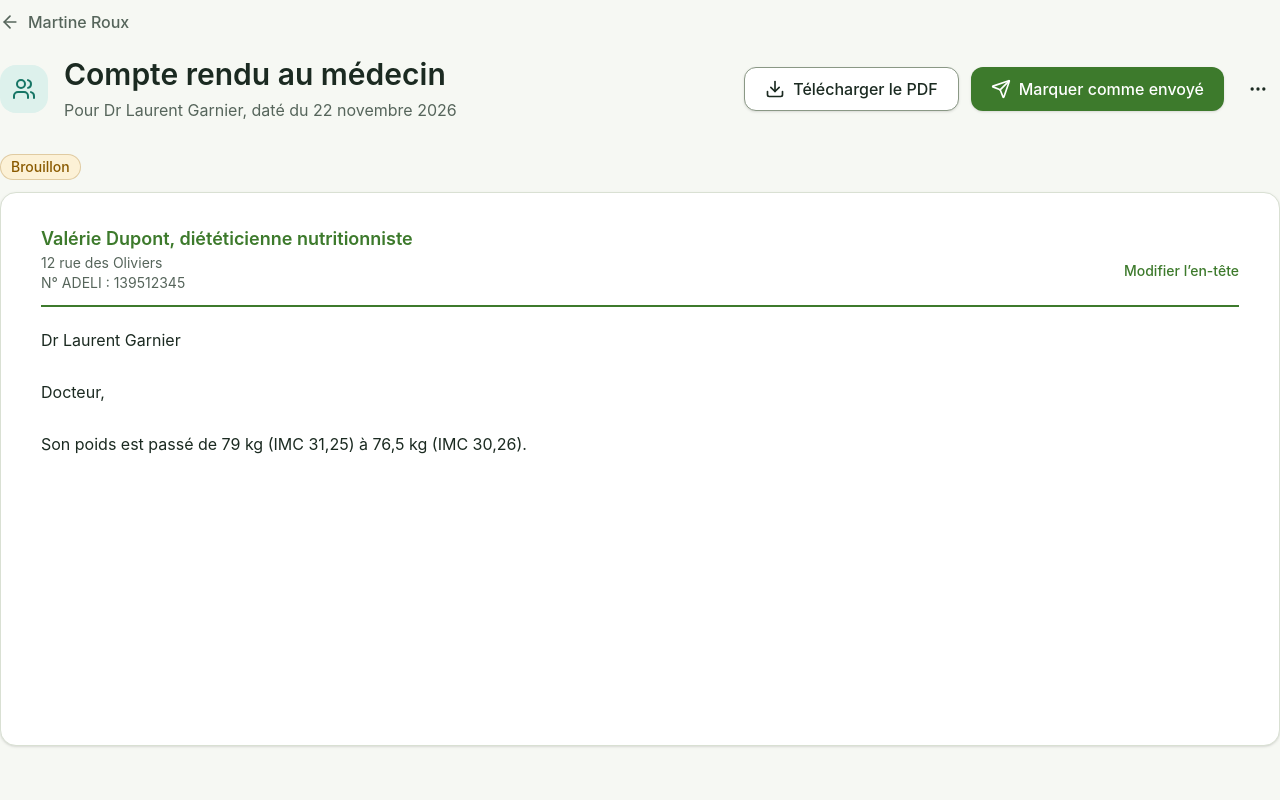
Test case: GpReportPage › regenerates a draft only after a warning that the text is replaced
Expected: the text box named "Texte du compte rendu" is shown, [41,326,1239,712]
Click the button named "Plus d’actions" at (1258,89), box [1236,67,1279,111]
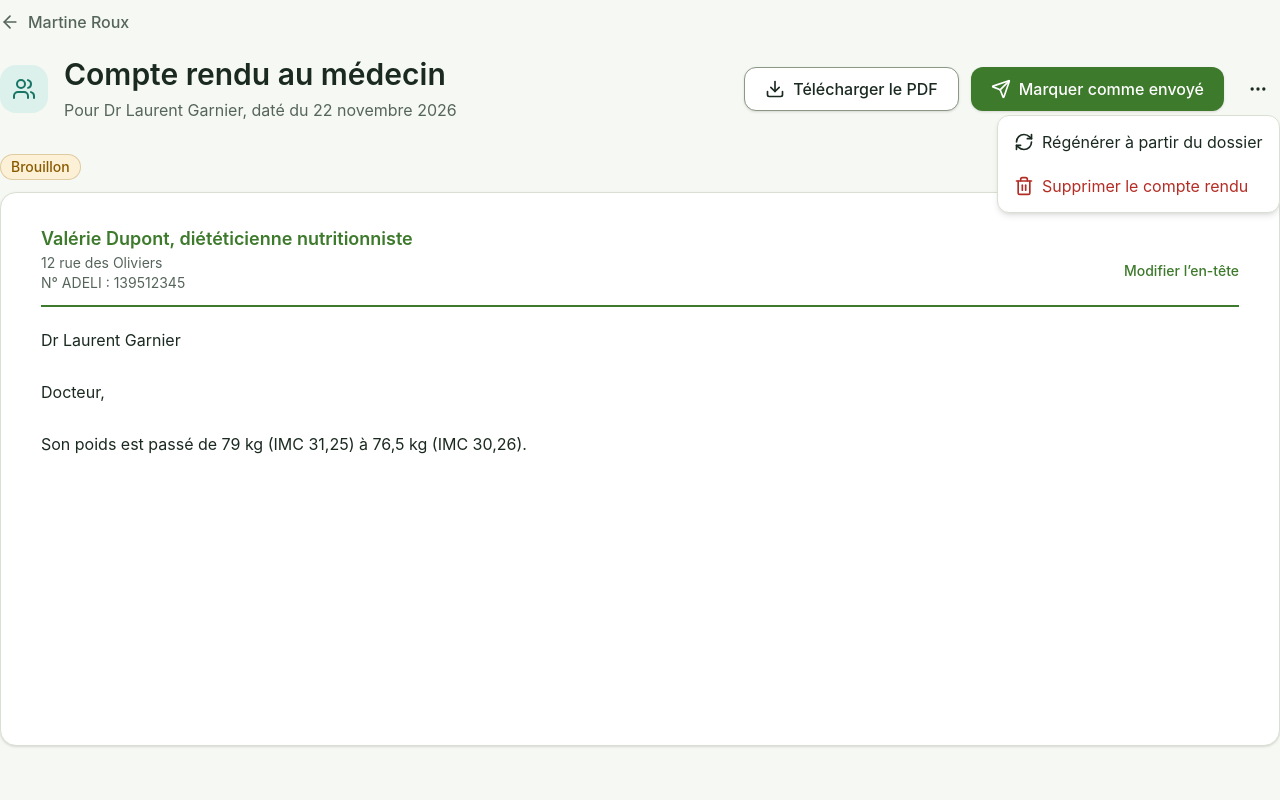
Click the menu item "Régénérer à partir du dossier" at (1138,142), box [1014,132,1262,152]
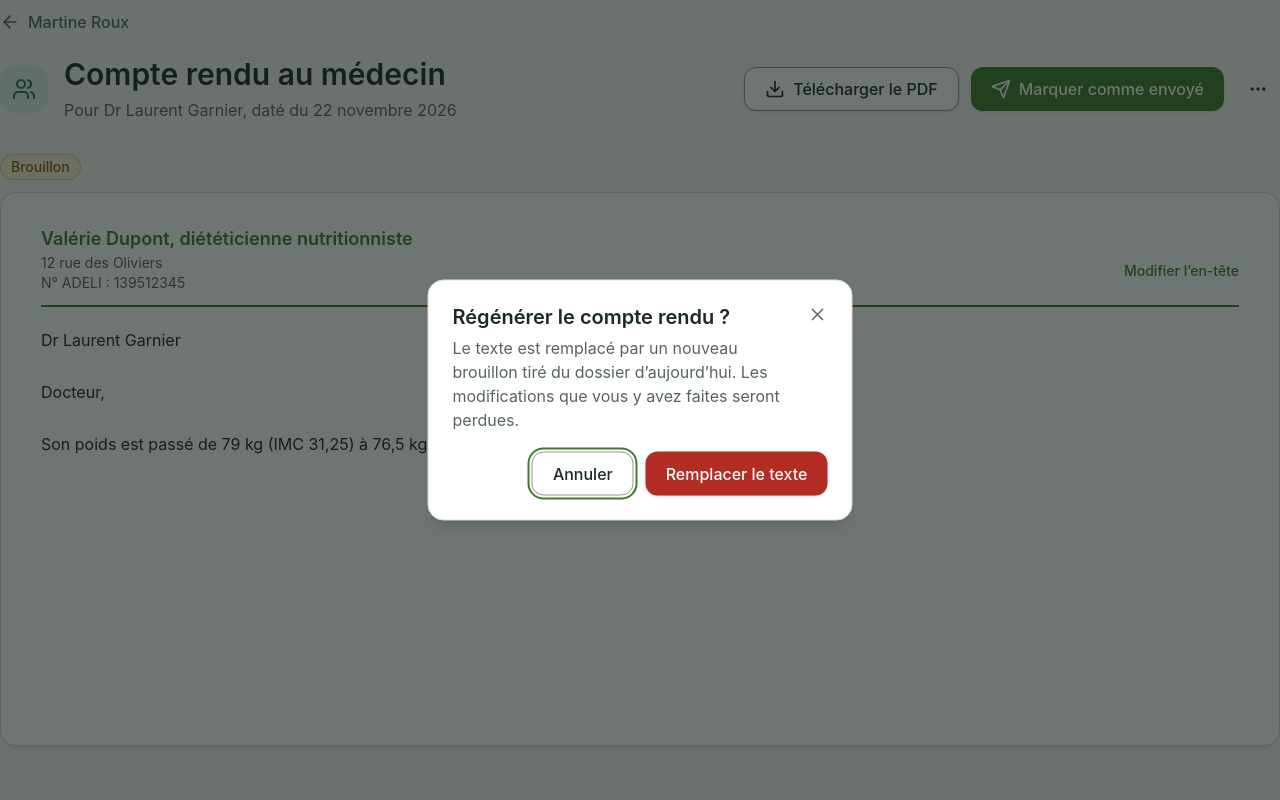
Expected: the text "Les modifications que vous y avez faites seront perdues" is shown, [452,338,780,430]
Click the button "Remplacer le texte" at (737,474), box [646,452,828,496]
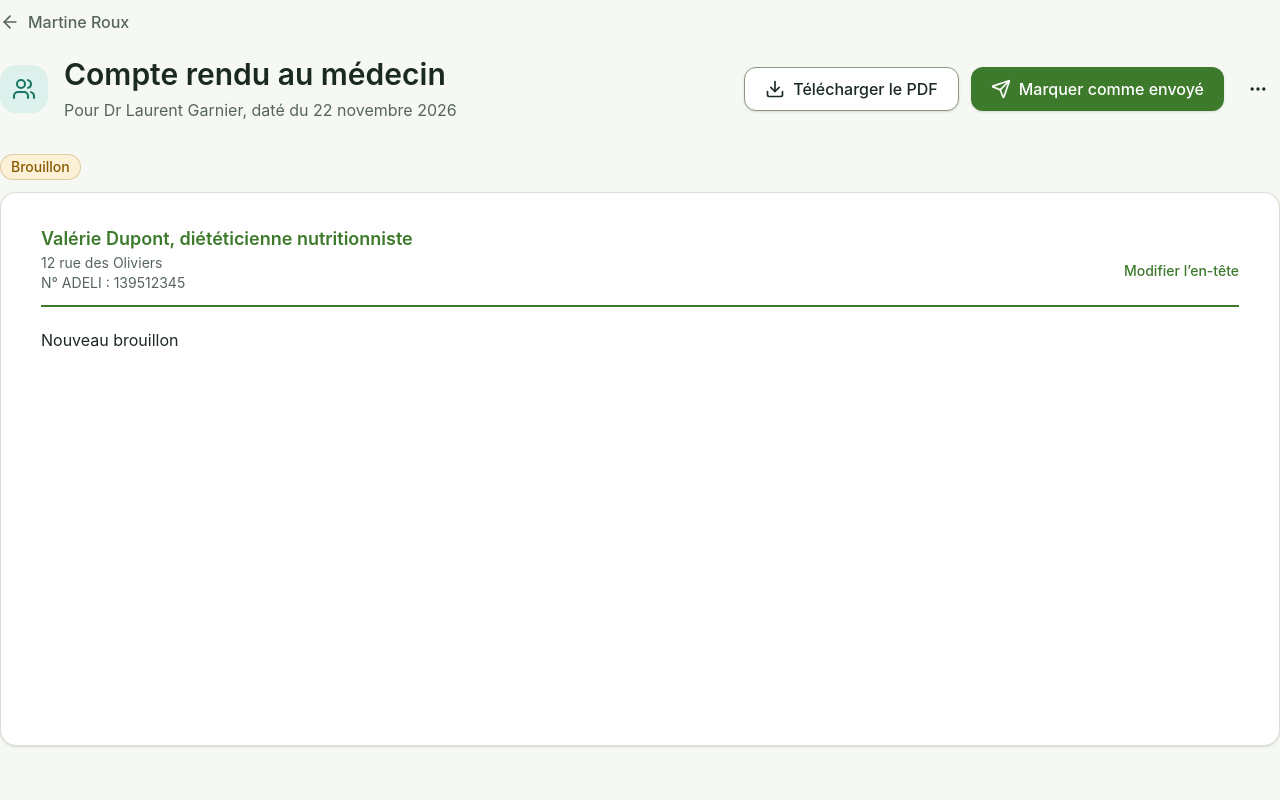
Expected: the text box named "Texte du compte rendu" holds "Nouveau brouillon", [41,326,1239,712]
